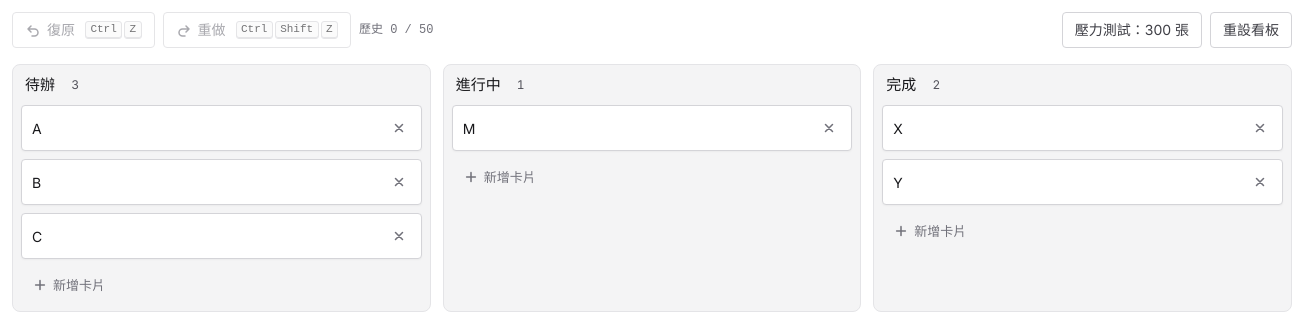
Test: editing cards › moves focus to the add button after deleting the last card of a column
The image size is (1304, 329).
Click the 2nd button with class "card-remove" at (829, 128), box [807, 106, 851, 150]
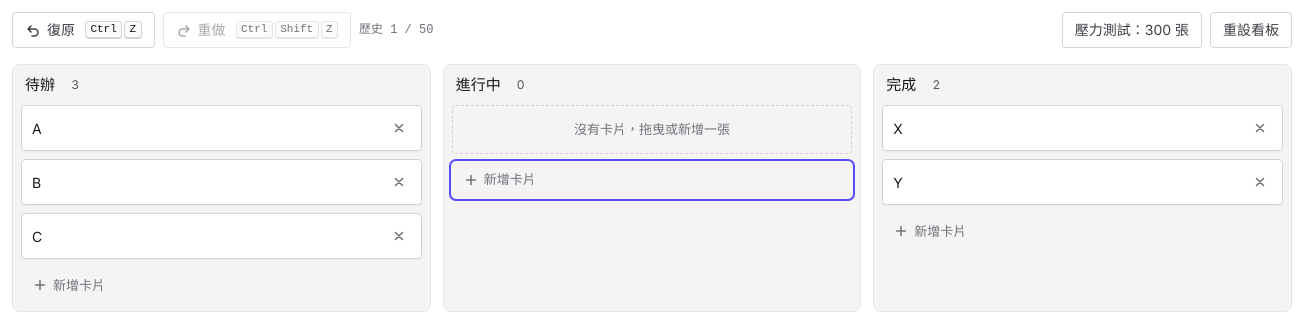
Now the list item with class "empty" is shown, box [452, 105, 852, 154]
